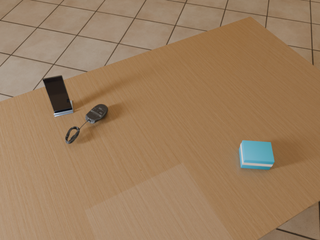box: (239, 141, 274, 170)
mouse: (86, 104, 108, 123)
phone: (43, 75, 72, 113)
